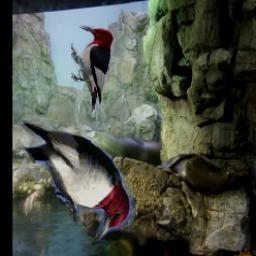Woodpecker: (15, 122, 136, 247), (71, 26, 115, 113)
